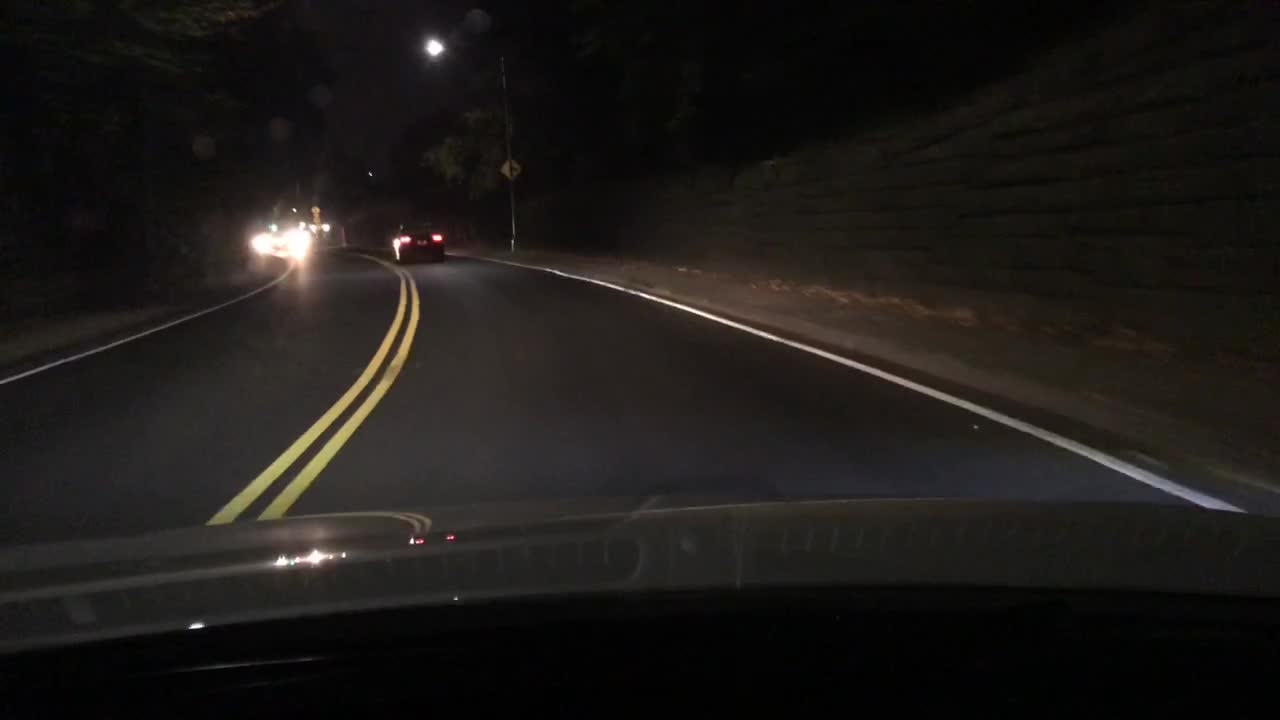car: (246, 218, 317, 263), (391, 218, 445, 266), (304, 222, 347, 253)
traffic sign: (499, 154, 524, 181), (310, 201, 323, 222)
